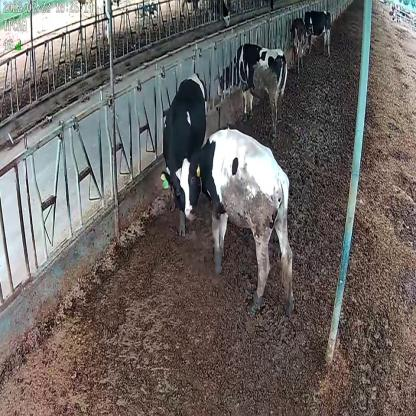cow: (179, 124, 295, 322), (159, 72, 208, 232), (215, 42, 287, 135), (290, 16, 307, 72)
